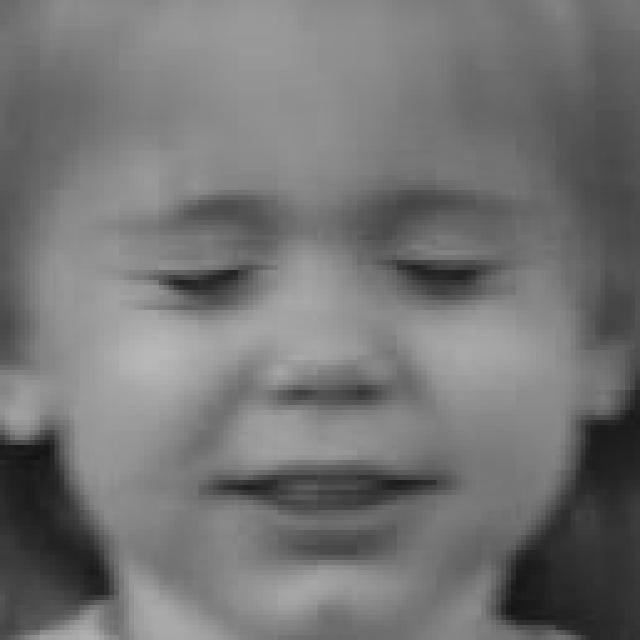real: (15, 40, 591, 633), (172, 209, 512, 308)
